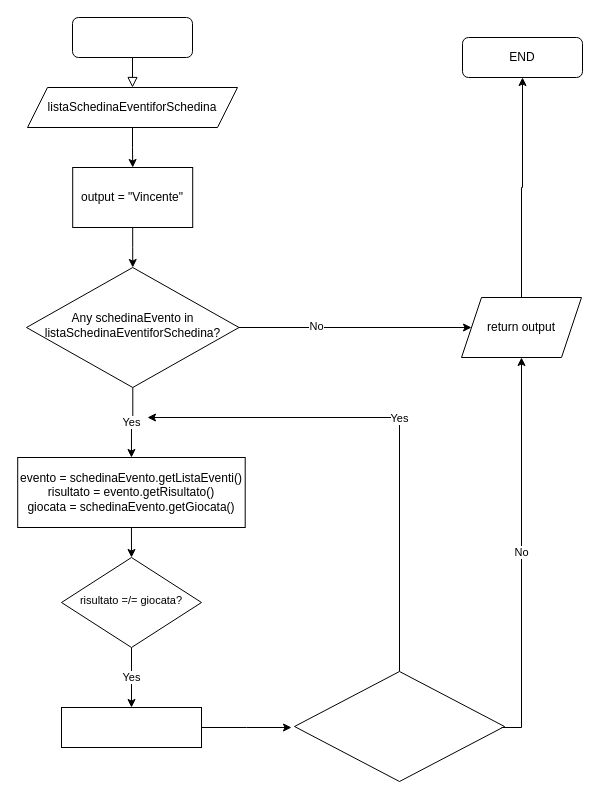
Some shapes in this 600 by 799 pixel diagram are drawn without their labels. The shapes that lost their labels are listed below. From the top down, each one's box as (x1, y1, x2, y2) in pixels, then its label:
(72, 16, 192, 58): START
(60, 706, 202, 748): output = "Perdente" break
(294, 670, 504, 782): Still elements in listaSchedinaEventiforSchedina?
